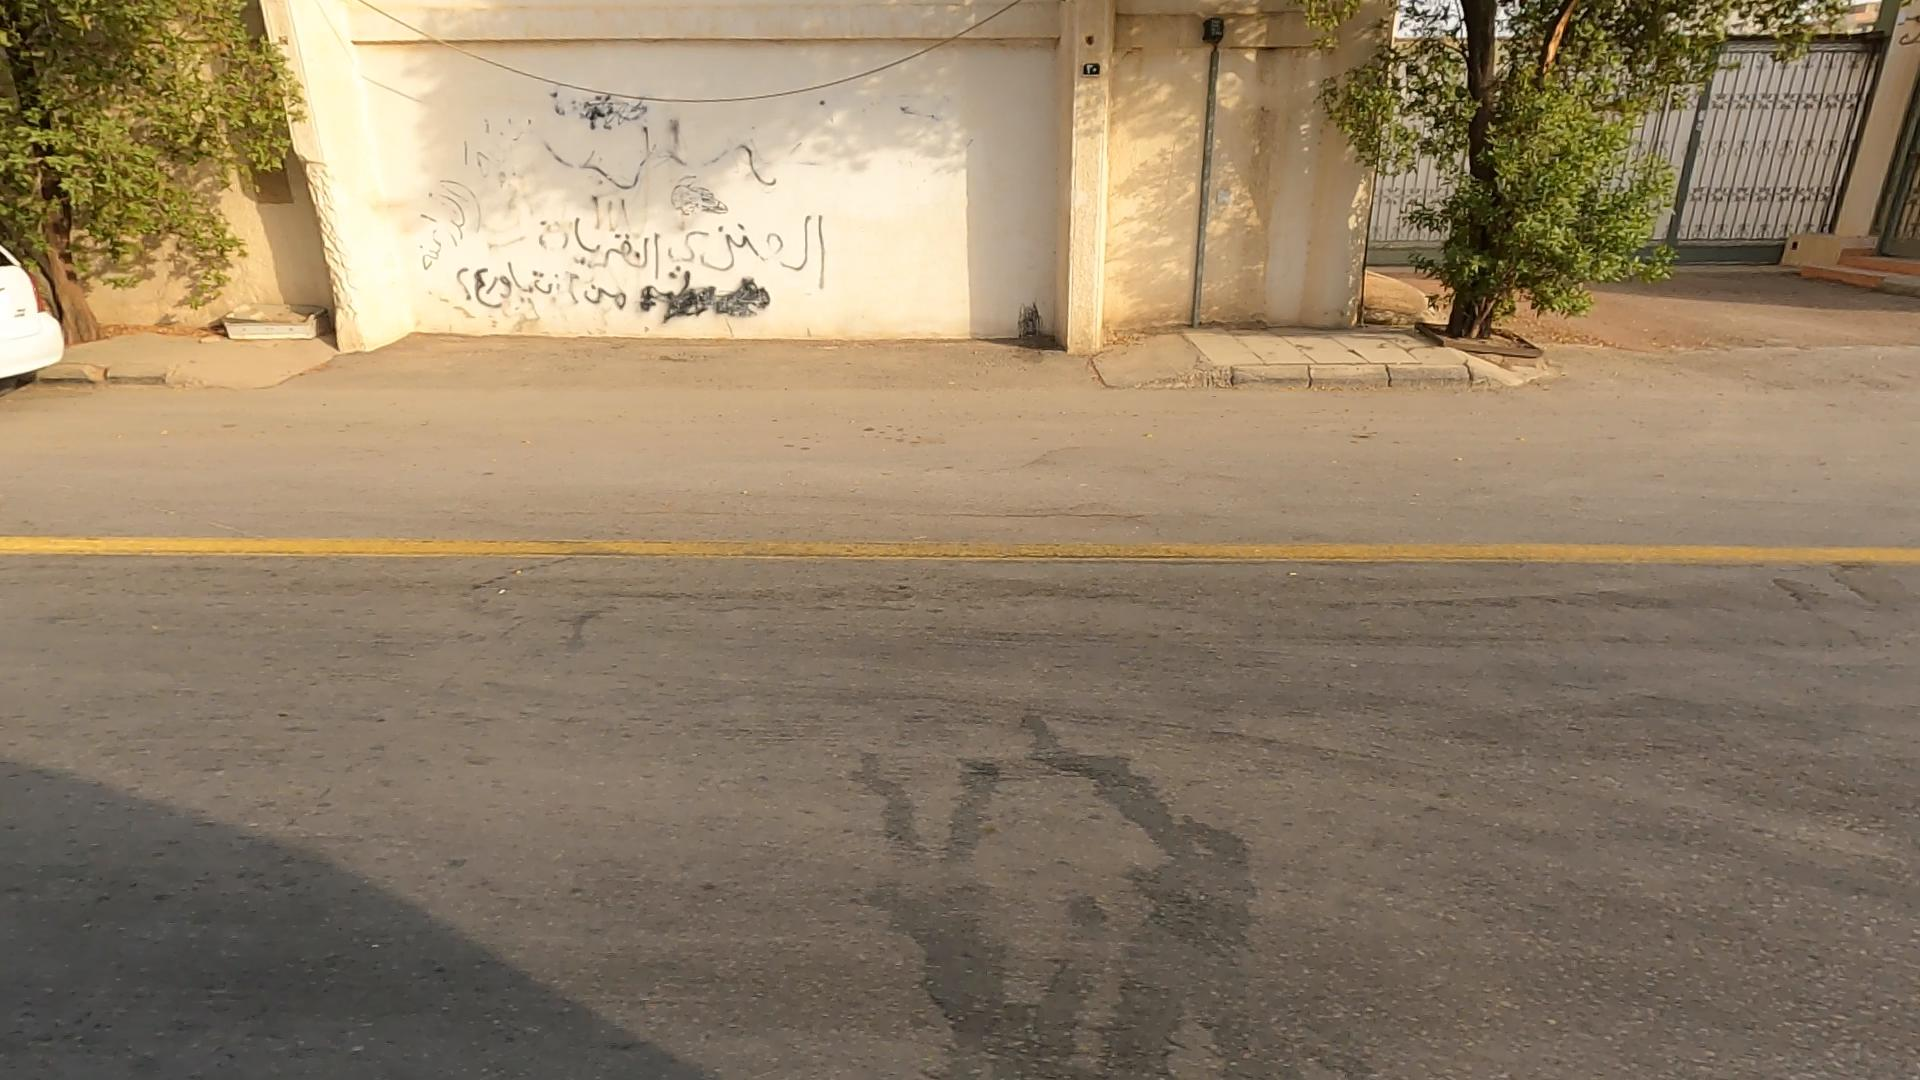GRAFFITI: (115, 0, 1185, 456)
